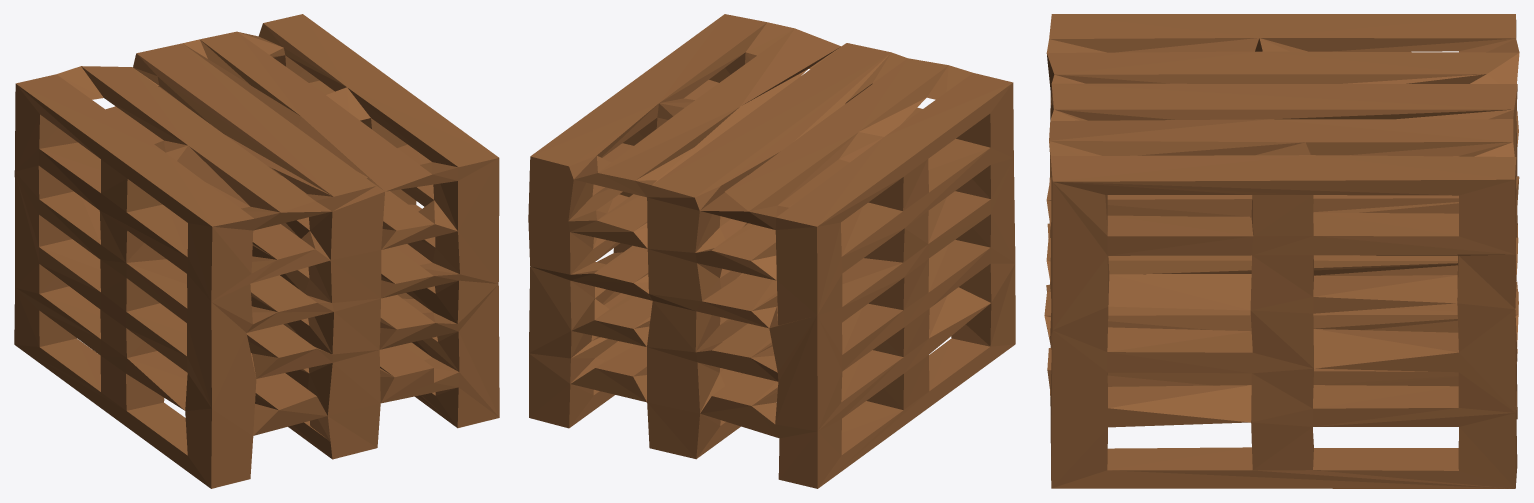
File: pallets.glb
3 renders of one model, left to right at view 1: azimuth 30°, elevation 25°; view 2: azimuth 150°, elevation 25°; view 3: azimuth 270°, elevation 25°, orthographic. The views are drawn at different scales.
Visible parts, largest first — view 1: Mesh_0; view 2: Mesh_0; view 3: Mesh_0.
Boxes of the visible parts, x1,y1,x2,y2 form: Mesh_0: [14, 14, 499, 488]; Mesh_0: [528, 14, 1015, 488]; Mesh_0: [1044, 14, 1519, 488].
Bounding box in the file's own units: 1.09 × 0.9352 × 1.3.
